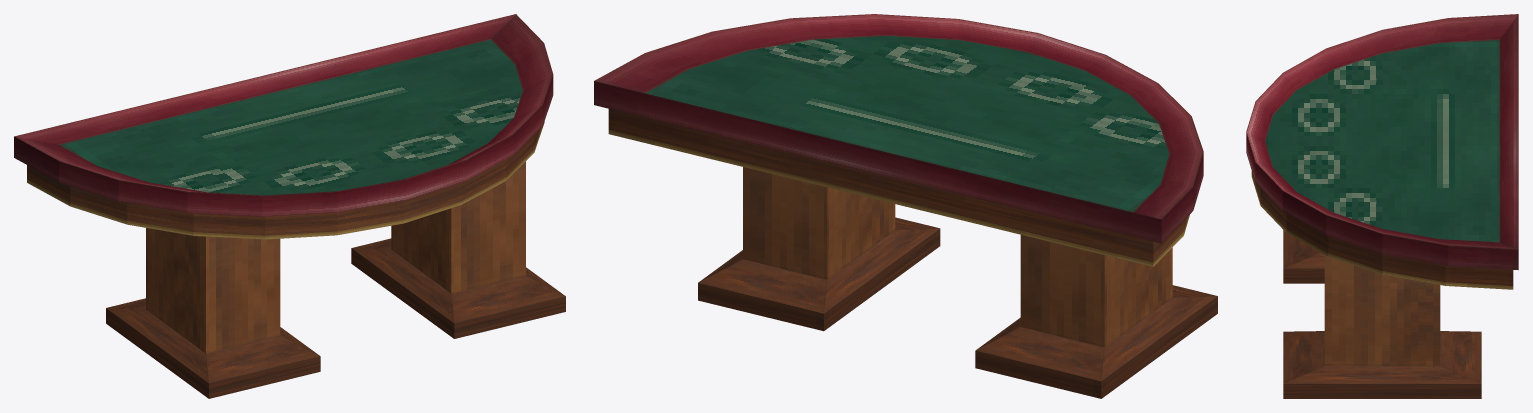
File: blackjack-table.glb
3 renders of one model, left to right at view 1: azimuth 30°, elevation 25°; view 2: azimuth 150°, elevation 25°; view 3: azimuth 270°, elevation 25°, orthographic. The views are drawn at different scales.
Visible parts, largest first — view 1: _MeshInstance3D_3; view 2: _MeshInstance3D_3; view 3: _MeshInstance3D_3.
Part boxes in pixels (x1,y1,x2,y2): _MeshInstance3D_3: [14, 14, 565, 398]; _MeshInstance3D_3: [594, 14, 1217, 398]; _MeshInstance3D_3: [1246, 14, 1518, 398].
Size of the model in its own units: 2.7 by 0.98 by 1.32.
Materials: 1 (1 with a texture image).
